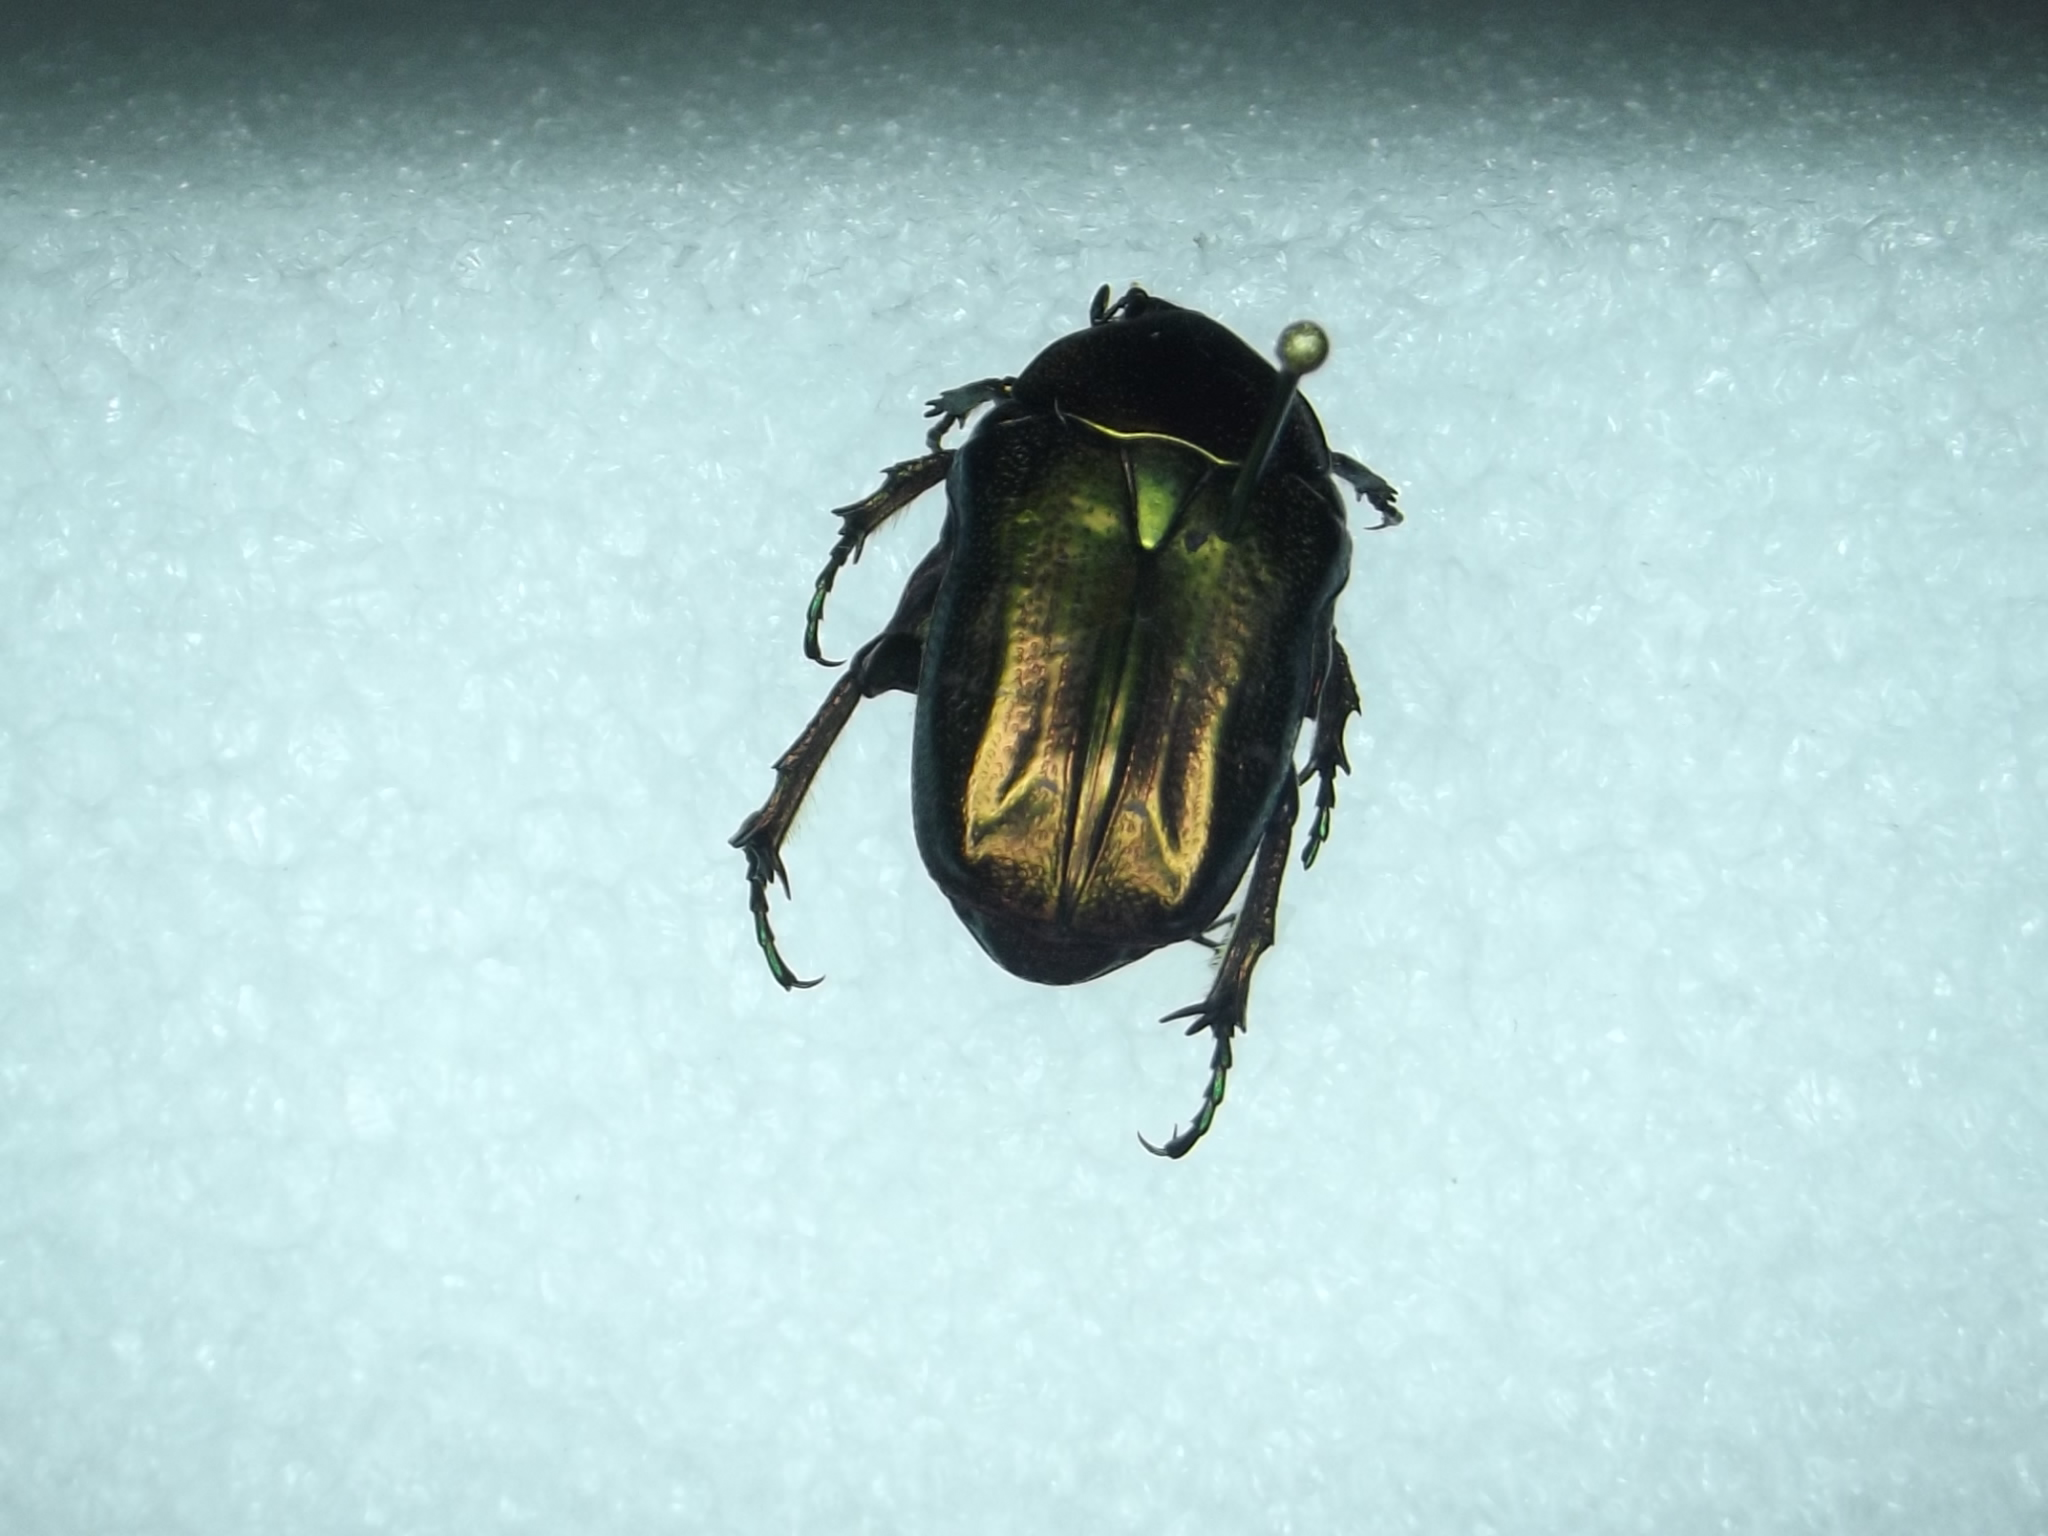Cetonia_aurata: (724, 257, 1417, 1183)
